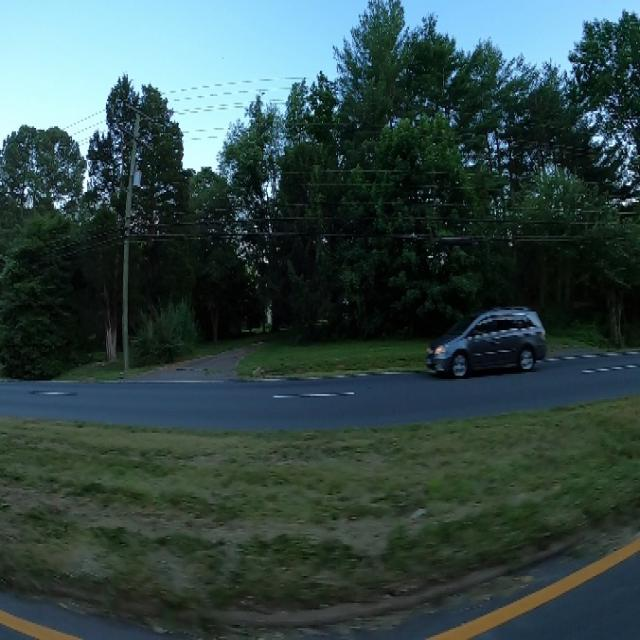car: (423, 269, 551, 391)
